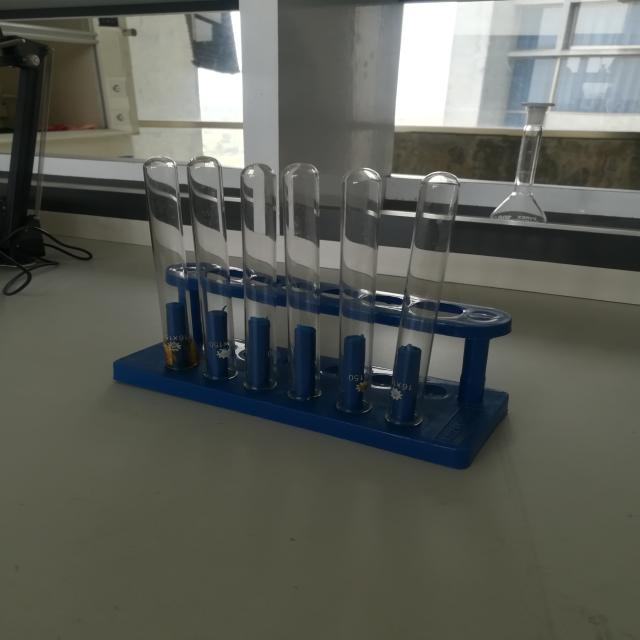Test_Tube: (108, 132, 487, 446)
